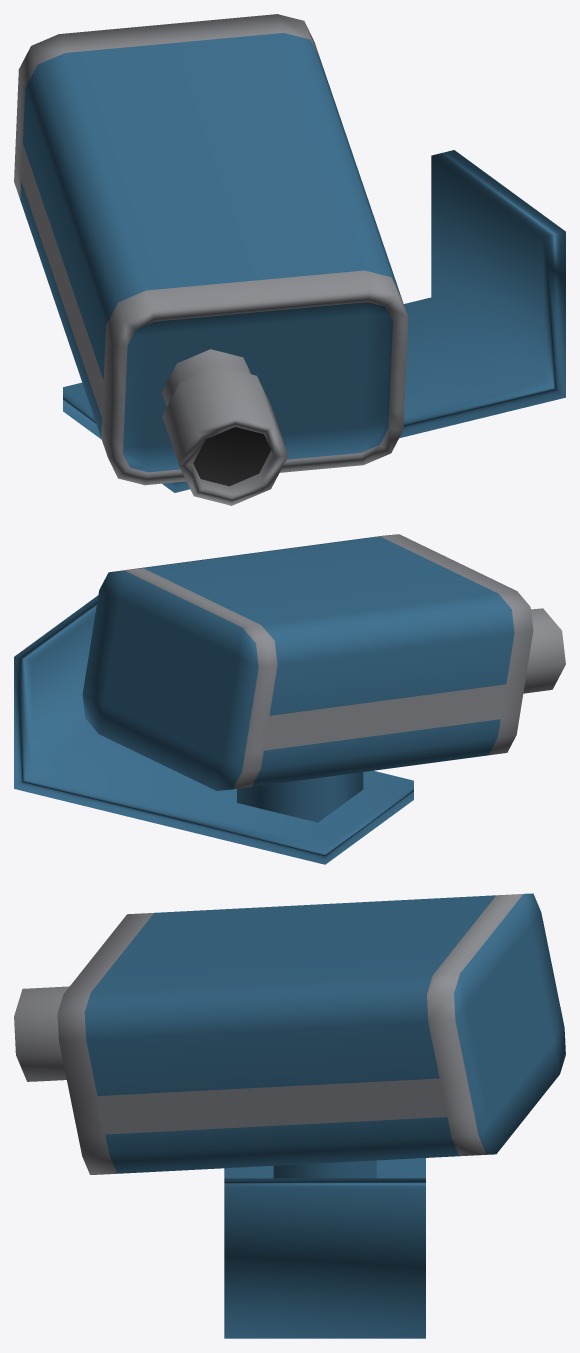
The model's file is security Camera.fbx.
The picture shows the model from 3 angles, top to bottom: view 1: azimuth 30°, elevation 25°; view 2: azimuth 150°, elevation 25°; view 3: azimuth 270°, elevation 25°; orthographic projection. The views are drawn at different scales.
Visible parts, largest first — view 1: security camera; view 2: security camera; view 3: security camera.
Part boxes in pixels (x1,y1,x2,y2): security camera: (14, 14, 565, 505); security camera: (14, 534, 565, 864); security camera: (14, 893, 565, 1338).
Bounding box in the file's own units: 0.7122 × 0.4468 × 0.7576.
